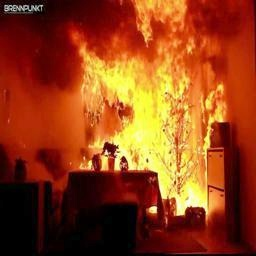fire: (35, 2, 238, 228)
